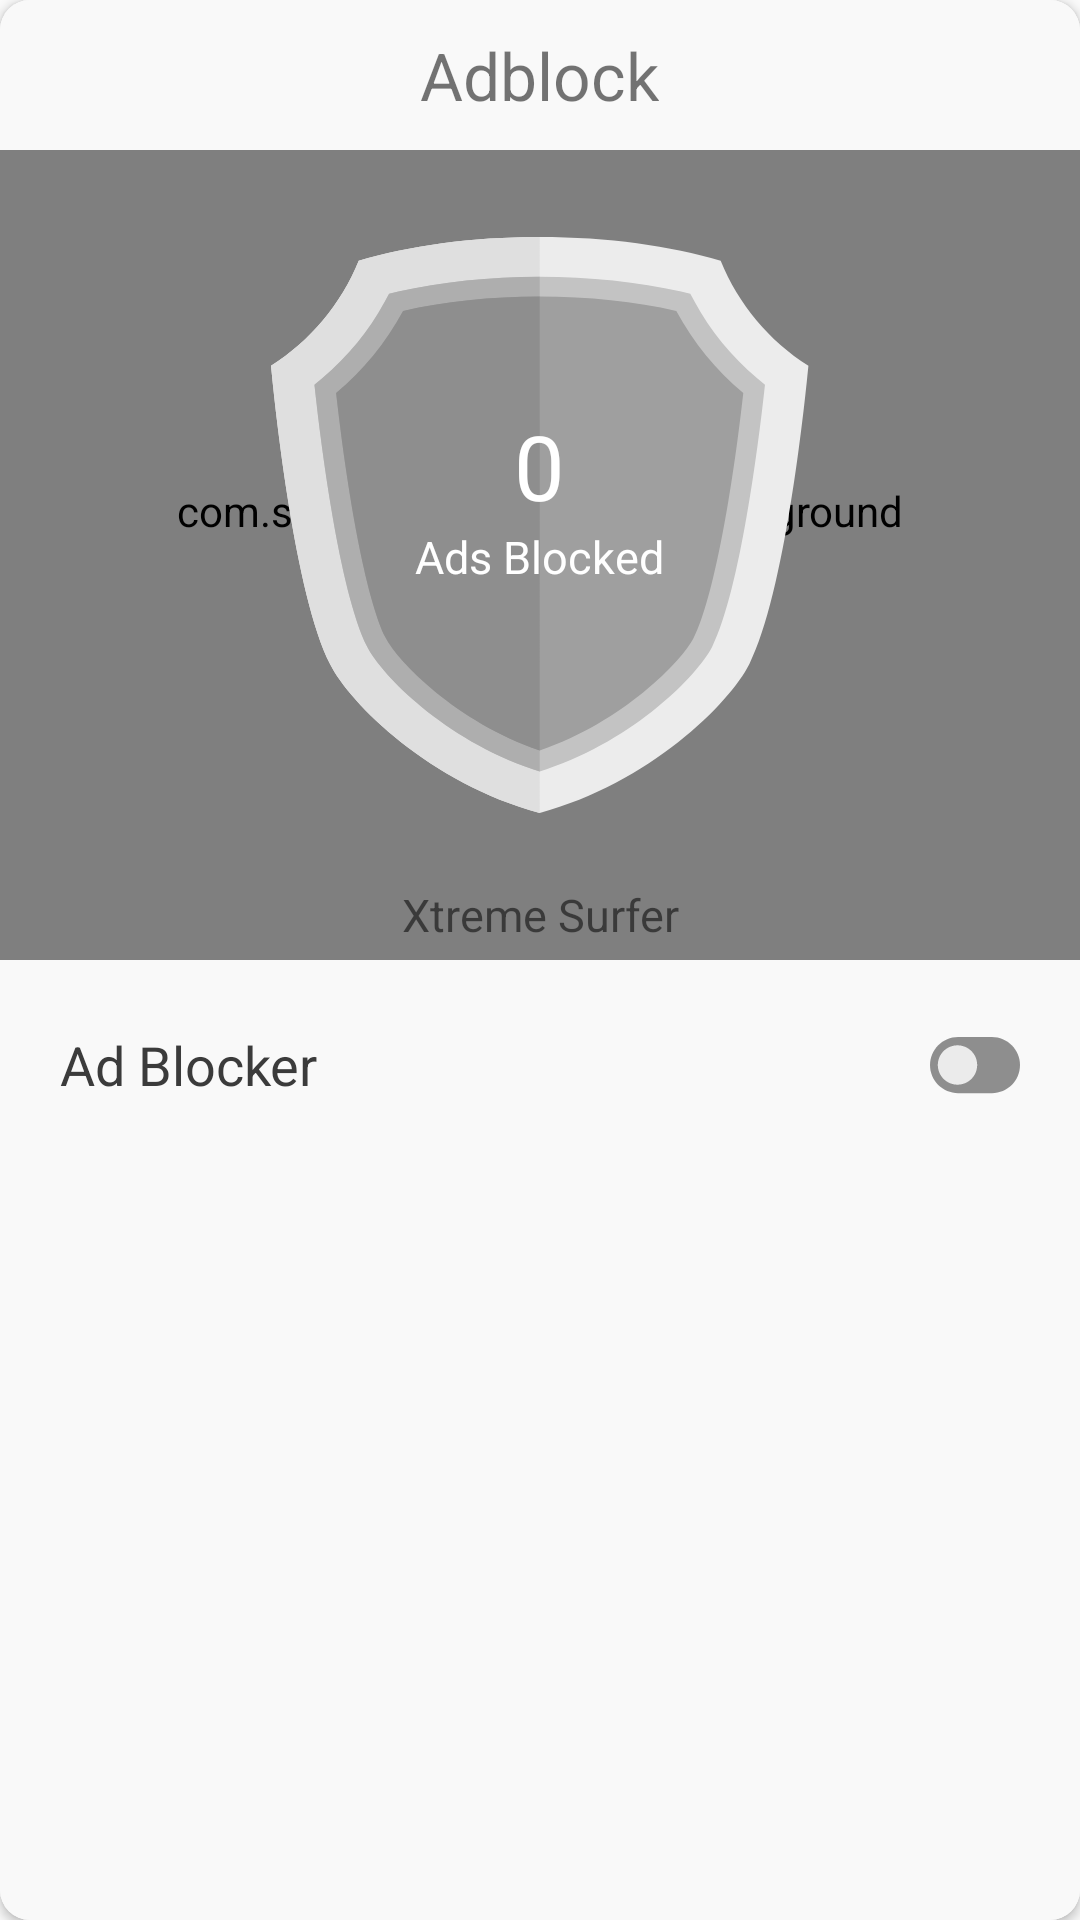

Icons on this 1080px x 1920px Android screen, each with its box as (x1, y1, x2, y2):
off: (930, 1037, 1020, 1094)
